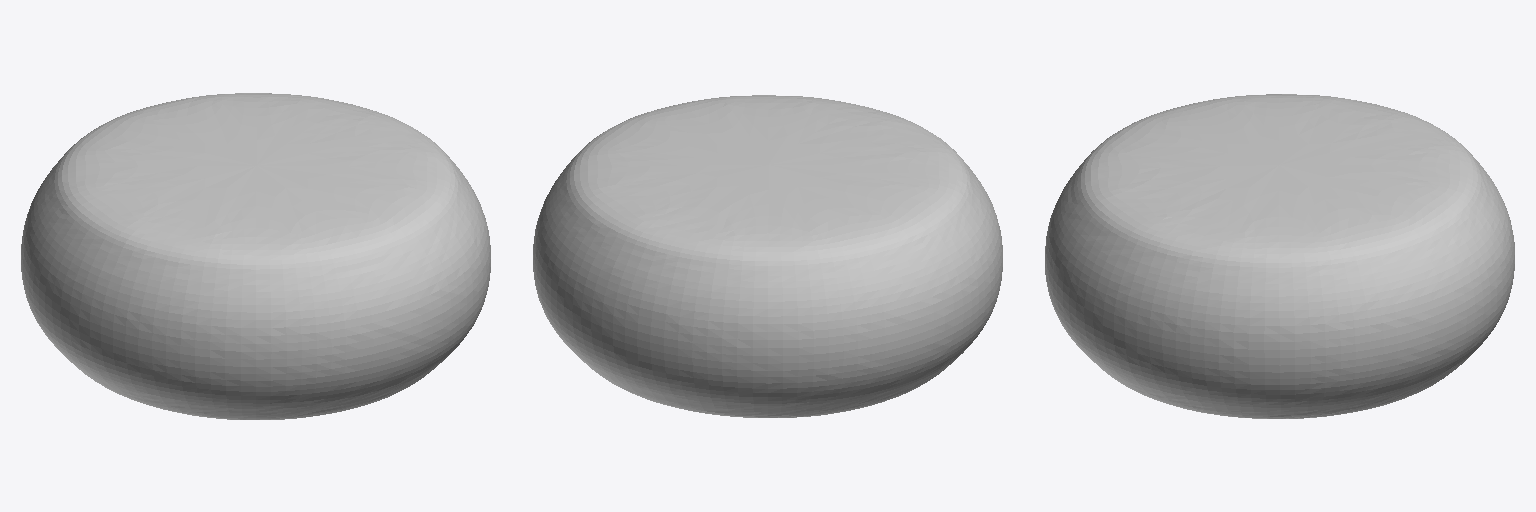
Rendered from S_vite_reggicinghia.obj.
3 renders of one model, left to right at view 1: azimuth 30°, elevation 25°; view 2: azimuth 150°, elevation 25°; view 3: azimuth 270°, elevation 25°, orthographic.
Visible parts, largest first — view 1: vite_reggicinghia; view 2: vite_reggicinghia; view 3: vite_reggicinghia.
Boxes of the visible parts, x1,y1,x2,y2 form: vite_reggicinghia: [21, 93, 490, 419]; vite_reggicinghia: [533, 95, 1002, 417]; vite_reggicinghia: [1045, 94, 1514, 418].
Size of the model in its own units: 0.0018 by 0.0008 by 0.0018.